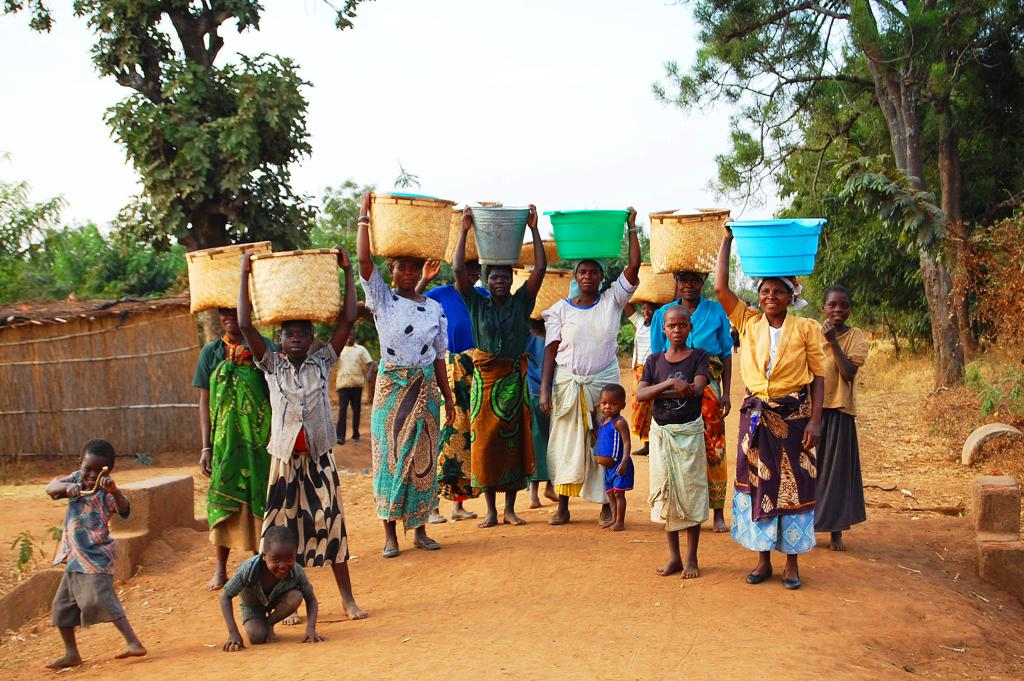face: (281, 321, 309, 359), (265, 543, 295, 577), (759, 279, 786, 314), (81, 455, 109, 487), (392, 258, 420, 289), (665, 311, 689, 345), (825, 294, 849, 323), (576, 264, 600, 292), (219, 307, 243, 333), (487, 269, 511, 295), (461, 258, 479, 288), (678, 277, 699, 299), (599, 393, 618, 416), (641, 303, 652, 319), (344, 330, 353, 344)
